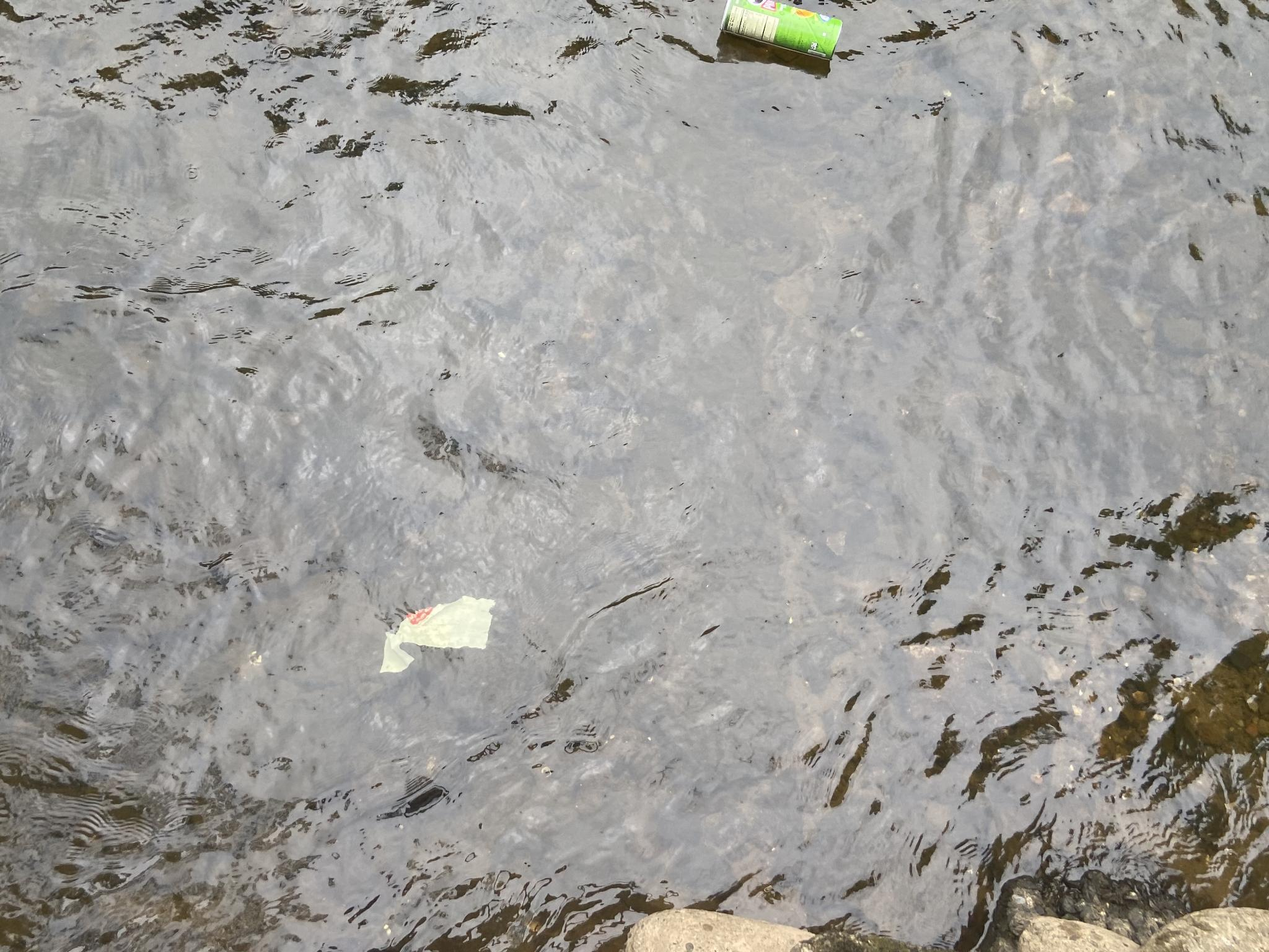metal: (707, 0, 858, 72)
plastic: (361, 584, 504, 689)
